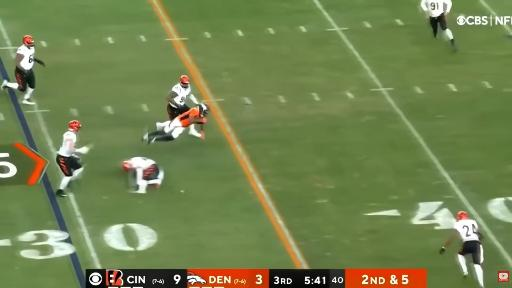Helmet: (69, 120, 81, 132), (198, 103, 209, 116), (179, 75, 190, 87), (122, 160, 132, 171), (23, 36, 34, 46), (457, 211, 468, 220)
Jersey: (454, 220, 479, 242), (178, 108, 206, 127), (421, 0, 452, 17), (58, 131, 76, 157), (17, 46, 34, 70), (172, 84, 191, 105), (131, 157, 155, 169)
Player: (440, 212, 483, 287), (0, 36, 45, 105), (143, 103, 209, 143), (56, 121, 90, 196), (421, 0, 456, 51), (123, 157, 163, 193), (167, 76, 199, 120)
